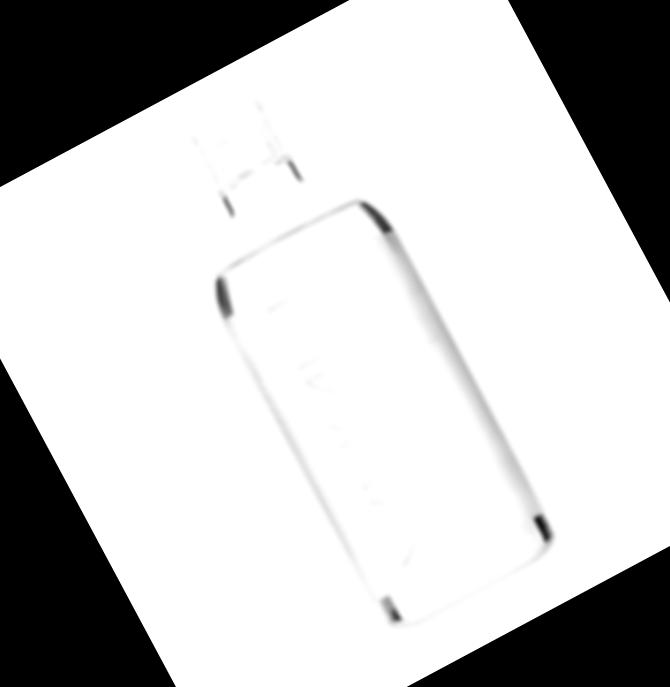cosmetic: (132, 64, 560, 635)
